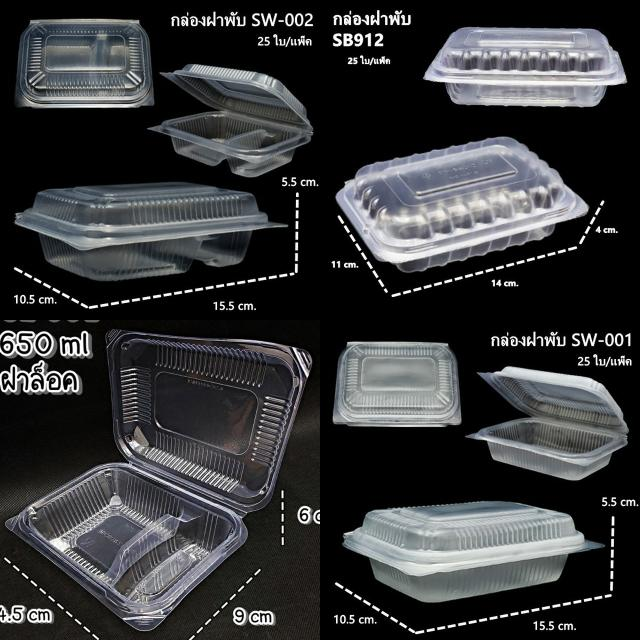Single-Use-Plastic: (6, 330, 311, 630), (338, 138, 588, 272), (15, 182, 284, 281), (344, 501, 601, 602), (151, 64, 312, 178), (468, 366, 629, 479), (424, 28, 626, 106), (15, 19, 154, 107), (332, 343, 461, 426)
